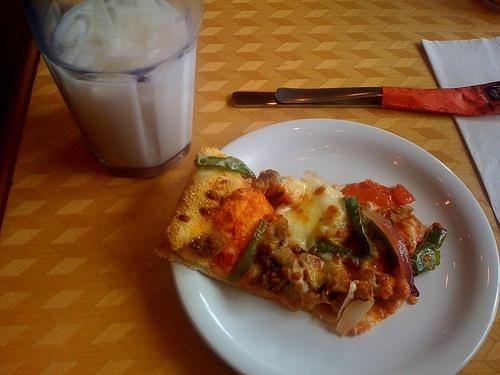bell pepper: (226, 219, 270, 279), (341, 196, 379, 259), (341, 179, 415, 207), (412, 228, 448, 275), (194, 154, 256, 178), (315, 239, 353, 258)
onion: (362, 210, 420, 296), (336, 296, 374, 335), (336, 280, 357, 320)
